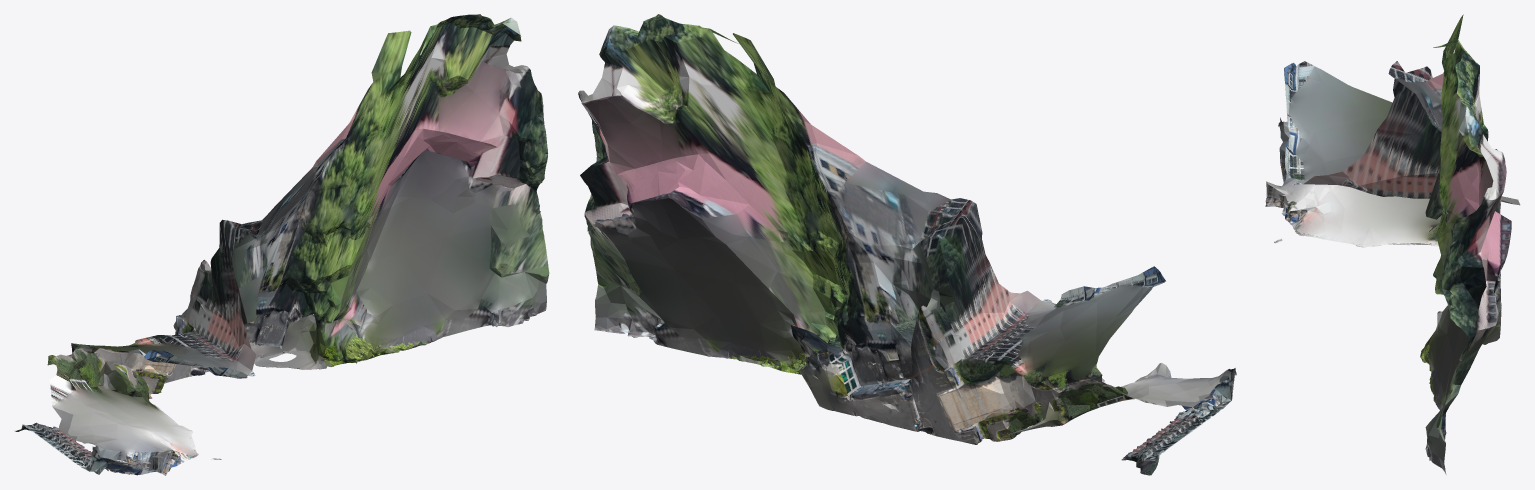
File: Tile_+002_+004.obj
3 views of the same model, side by side, from view 1: azimuth 30°, elevation 25°; view 2: azimuth 150°, elevation 25°; view 3: azimuth 270°, elevation 25° (orthographic). The views are drawn at different scales.
Size of the model in its own units: 200 by 113 by 70.25.
Materials: 1 (1 with a texture image).
